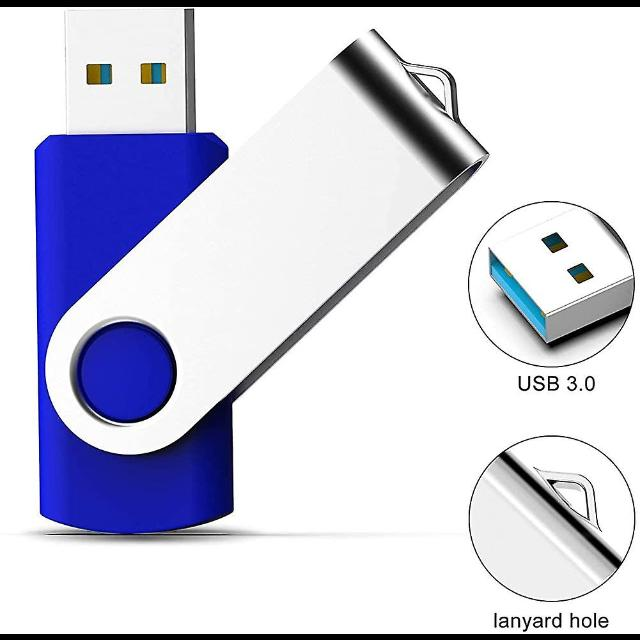USB-Flash-Drive: (33, 6, 235, 538)
